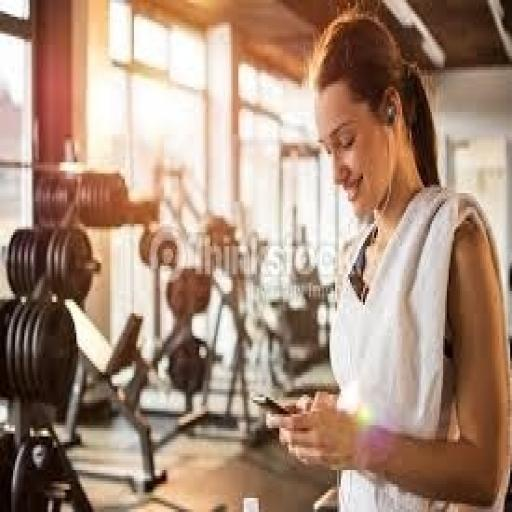texting: (263, 8, 510, 510)
